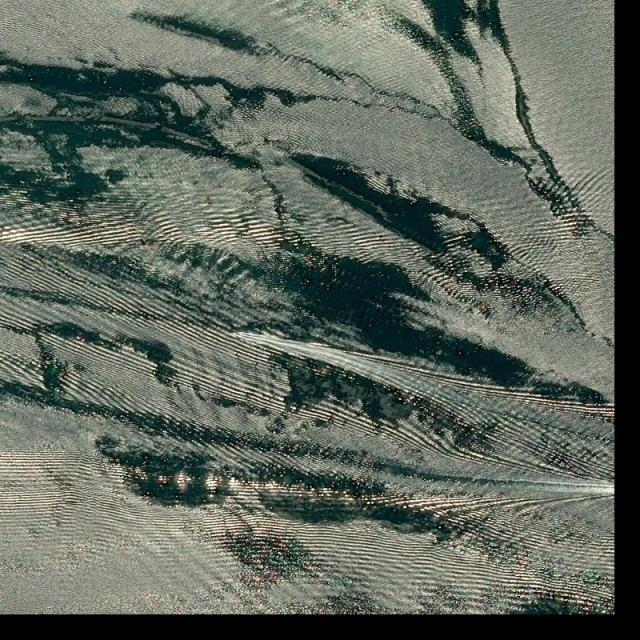ship: (230, 332, 242, 336)
